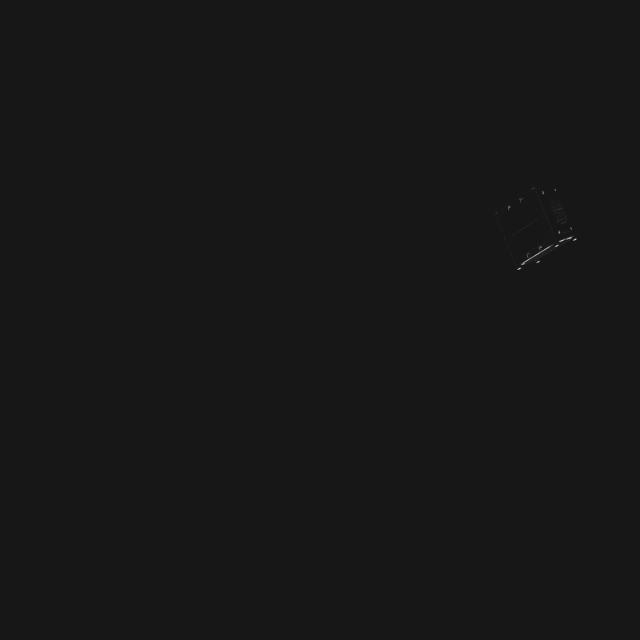medium_debris: (484, 177, 586, 278)
